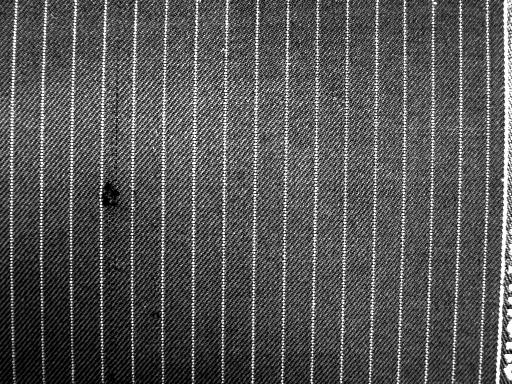fabric_hole: (96, 182, 129, 214)
